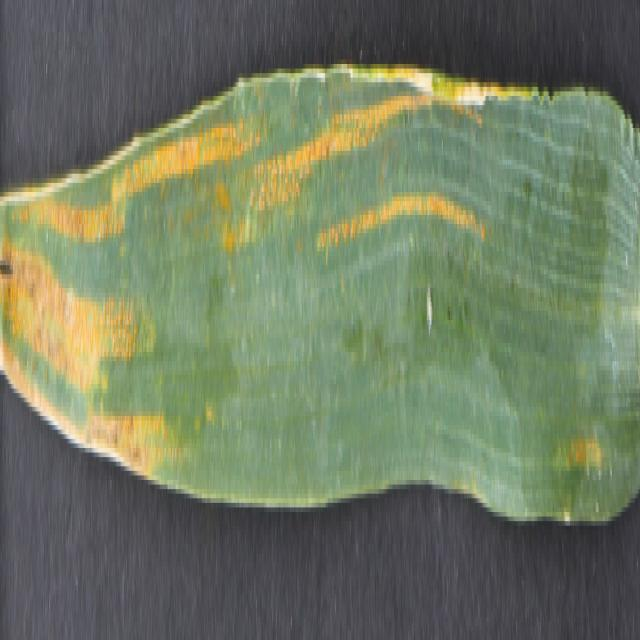leaf rust: (1, 59, 490, 471)
